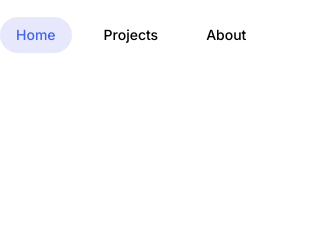
Navbar › Keyboard Navigation › Escape key closes dropdown
Step 1. Hover over the link "Home" → x=36, y=35, box [0,17,72,53]
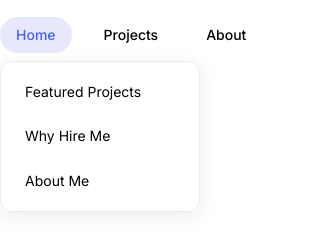
Now the text "Featured Projects" is shown, box [25,83,141,100]
// Press Escape
Step 2. Press Escape
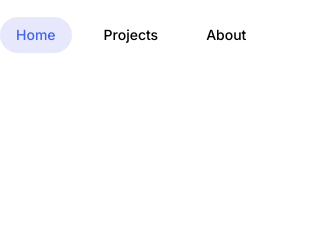
Now the menu item "Featured Projects" is gone
